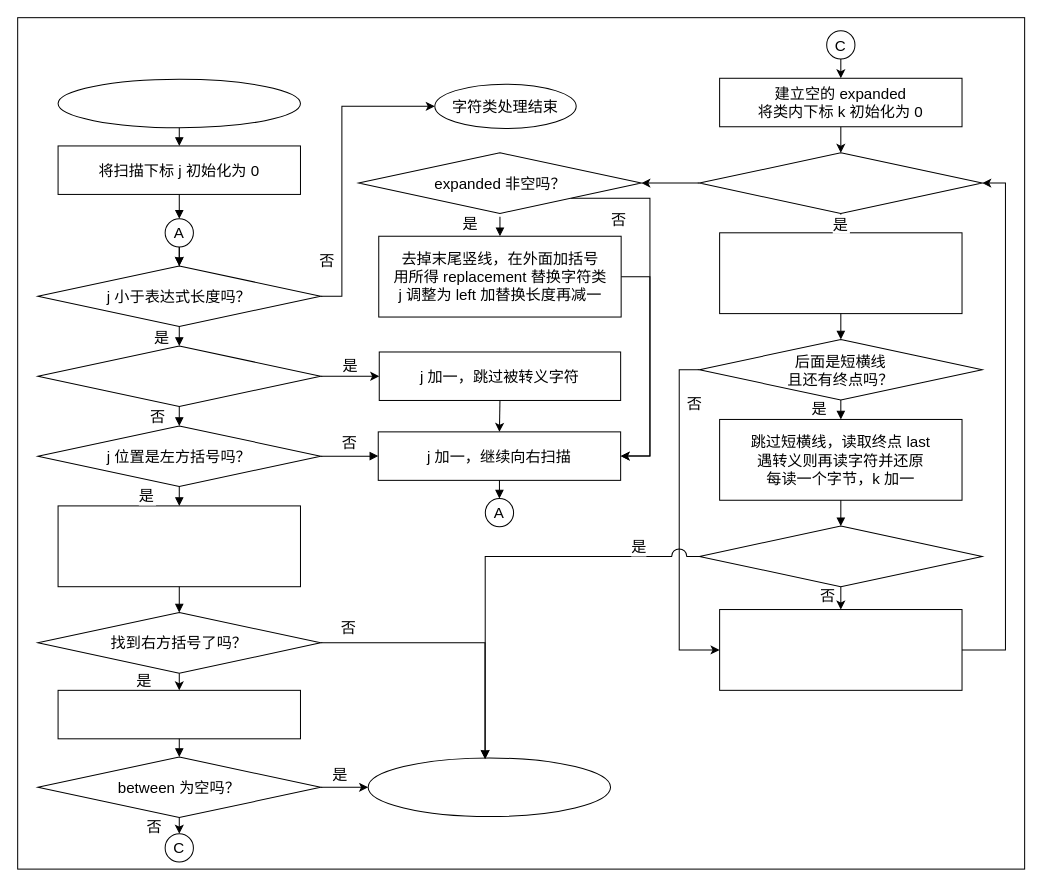
Image size: 1042x887. Some labels were removed from this diagram. Here are the shapes that lost their labels. From the top down, the box of each, then its label:
(57, 78, 300, 128): 开始处理字符类
(698, 152, 982, 213): k 小于 between 的长度吗？
(719, 232, 962, 314): 读取字符 first，k 加一 若为转义则再读一字符并还原 将 last 初始化为 first
(37, 345, 321, 407): j 位置是反斜杠吗？
(57, 505, 300, 587): left 保存 j，right 从 left 加一开始 向右扫描到未转义的右方括号 或表达式末尾
(698, 525, 982, 587): first 大于 last 吗？
(719, 609, 962, 690): 从 first 到 last 依次枚举 c 特殊字符先向 expanded 补反斜杠 再追加字符和竖线，每次 c 加一
(57, 689, 300, 739): 提取方括号之间的内容 between
(367, 757, 611, 817): 字符类格式错误 报告原因并终止
